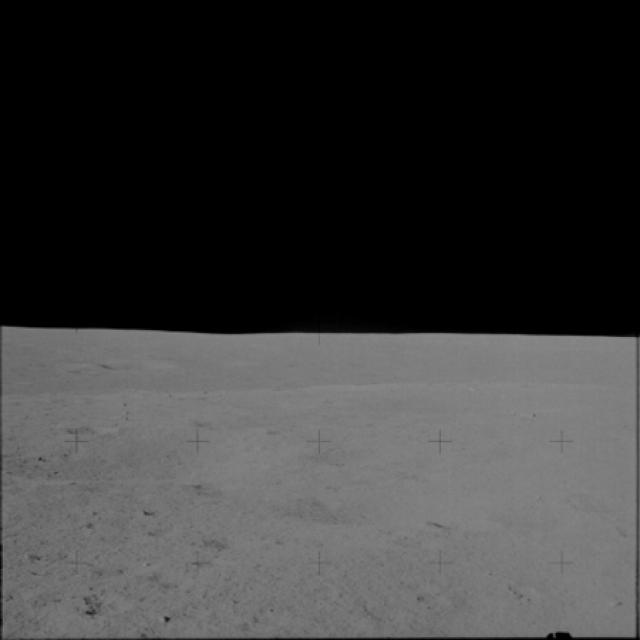crater: (252, 478, 466, 542)
